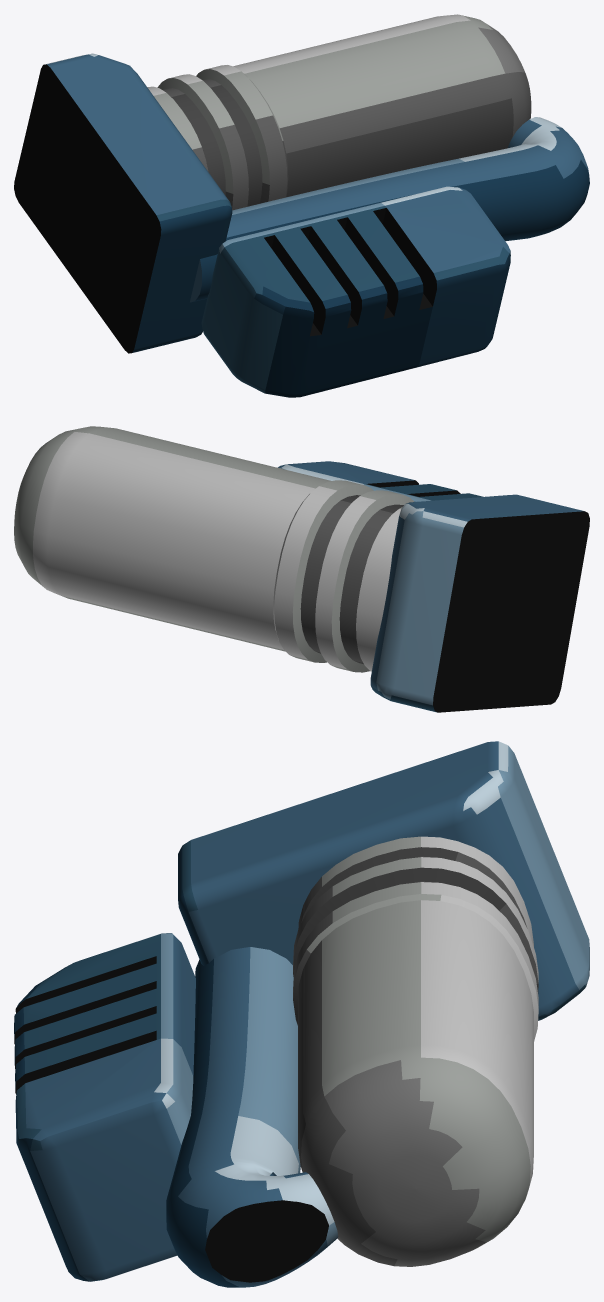
Rendered from deli_cannon_l_breech.glb.
3 views of the same model, one above another, from view 1: azimuth 30°, elevation 25°; view 2: azimuth 150°, elevation 25°; view 3: azimuth 270°, elevation 25° (orthographic). The views are drawn at different scales.
Visible parts, largest first — view 1: fin_block.001, breech.001, rear_block.001, handle.001; view 2: breech.001, rear_block.001, fin_block.001; view 3: breech.001, fin_block.001, rear_block.001, handle.001.
Boxes of the visible parts, box(x1,y1,x2,y2) form: fin_block.001: box(201, 186, 510, 397); breech.001: box(147, 14, 531, 210); rear_block.001: box(14, 53, 232, 353); handle.001: box(190, 117, 589, 302); breech.001: box(14, 426, 414, 672); rear_block.001: box(370, 494, 589, 712); fin_block.001: box(278, 461, 483, 501); breech.001: box(293, 836, 538, 1266); fin_block.001: box(14, 933, 195, 1281); rear_block.001: box(178, 741, 589, 1020); handle.001: box(166, 947, 338, 1287).
Bounding box in the file's own units: 24 × 12.88 × 19.51.
